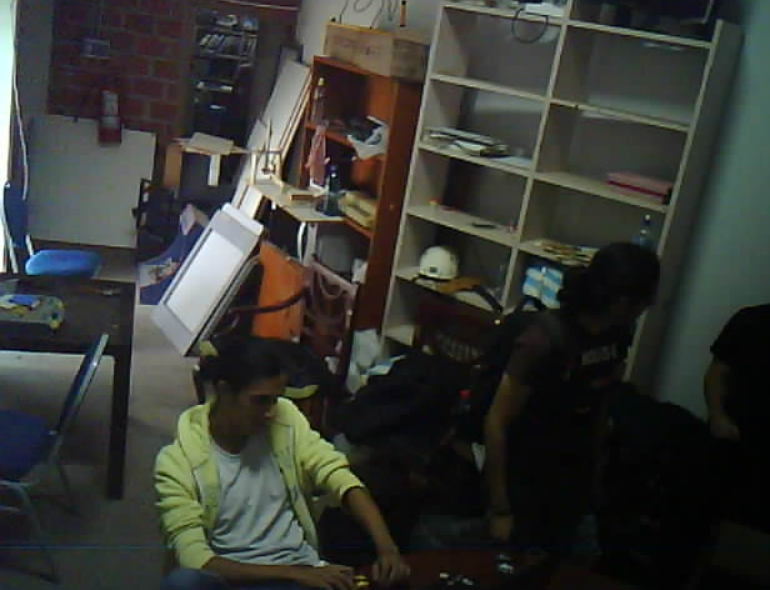person: (121, 320, 414, 590), (492, 207, 659, 575)
